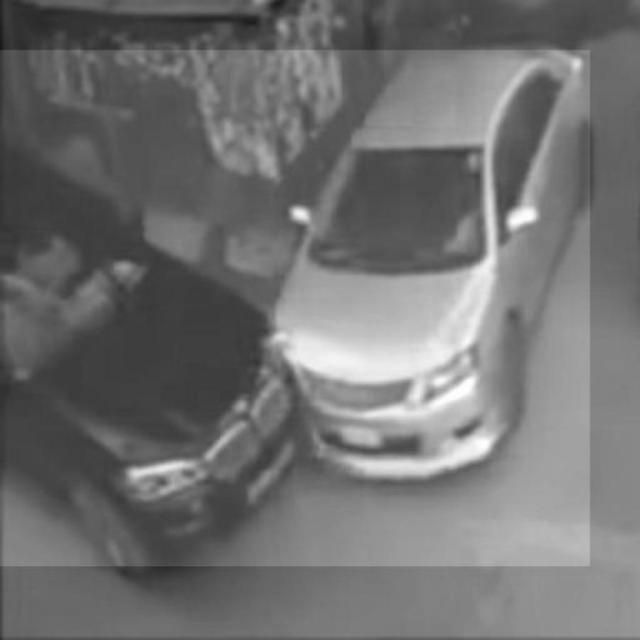accident: (0, 50, 590, 566)
